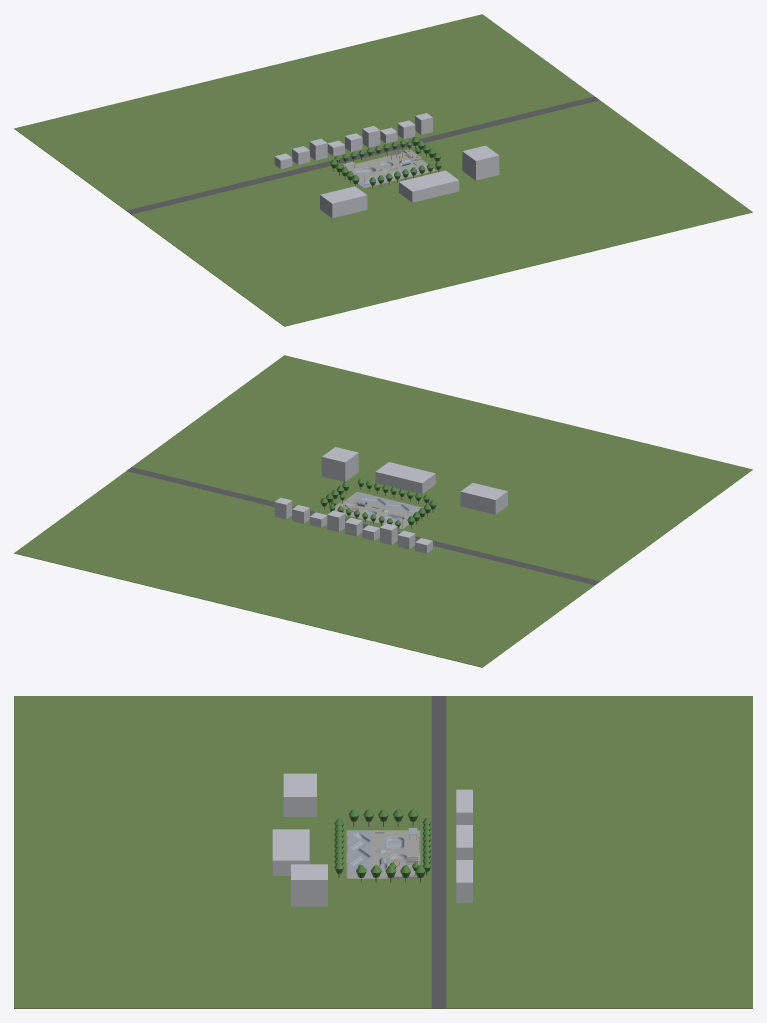
Rendered from skate_park_ba.glb.
3 renders of one model, top to bottom at view 1: azimuth 30°, elevation 25°; view 2: azimuth 150°, elevation 25°; view 3: azimuth 270°, elevation 25°, orthographic. The views are drawn at different scales.
Parts seen in each view (by area): view 1: far_ground, far_ground_003, far_ground_001, far_ground_002, street, block_001, block, block_002; view 2: far_ground_003, far_ground, far_ground_001, far_ground_002, street, block_001, block, block_002; view 3: far_ground, far_ground_003, far_ground_002, far_ground_001, street, block_002, block_001, block, snake_run.
Boxes of the visible parts, x1,y1,x2,y2 form: far_ground: (163, 123, 752, 326); far_ground_003: (14, 14, 603, 217); far_ground_001: (136, 168, 363, 237); far_ground_002: (412, 103, 630, 170); street: (126, 96, 599, 214); block_001: (399, 170, 459, 202); block: (320, 186, 367, 218); block_002: (462, 145, 499, 180); far_ground_003: (14, 464, 603, 667); far_ground: (163, 355, 752, 558); far_ground_001: (403, 509, 630, 578); far_ground_002: (136, 444, 356, 511); street: (126, 467, 599, 585); block_001: (375, 462, 435, 493); block: (460, 483, 507, 514); block_002: (321, 447, 358, 481); far_ground: (14, 696, 346, 1008); far_ground_003: (420, 696, 752, 1008); far_ground_002: (346, 878, 420, 1008); far_ground_001: (346, 696, 420, 830); street: (431, 696, 446, 1008); block_002: (291, 864, 327, 906); block_001: (272, 829, 309, 875); block: (283, 773, 316, 816); snake_run: (348, 830, 371, 873).
Size of the model in its own units: 400 by 19.2 by 400.
